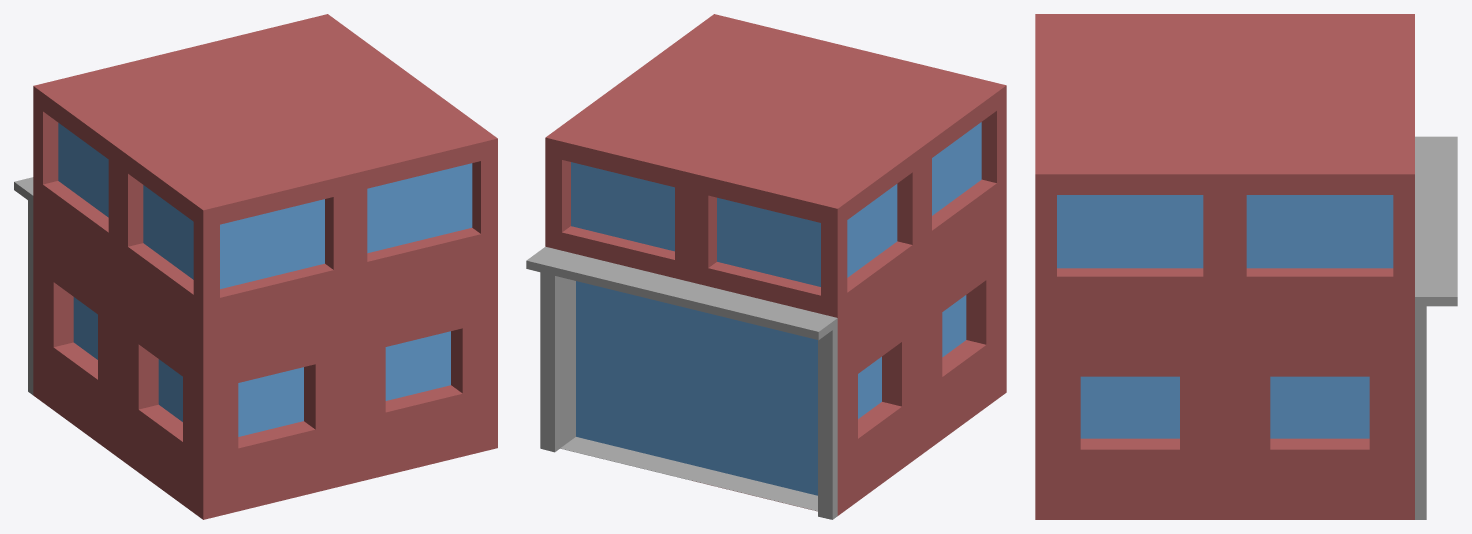
Rendered from building_1x1_3_g.glb.
The picture shows the model from 3 angles, left to right: view 1: azimuth 30°, elevation 25°; view 2: azimuth 150°, elevation 25°; view 3: azimuth 270°, elevation 25°; orthographic projection. The views are drawn at different scales.
Visible parts, largest first — view 1: Cube; view 2: Cube; view 3: Cube.
Boxes of the visible parts, <box> form: Cube: <box>14,14,497,519</box>; Cube: <box>526,14,1006,519</box>; Cube: <box>1035,14,1457,519</box>.
Size of the model in its own units: 1.59 by 1.6 by 1.77.
